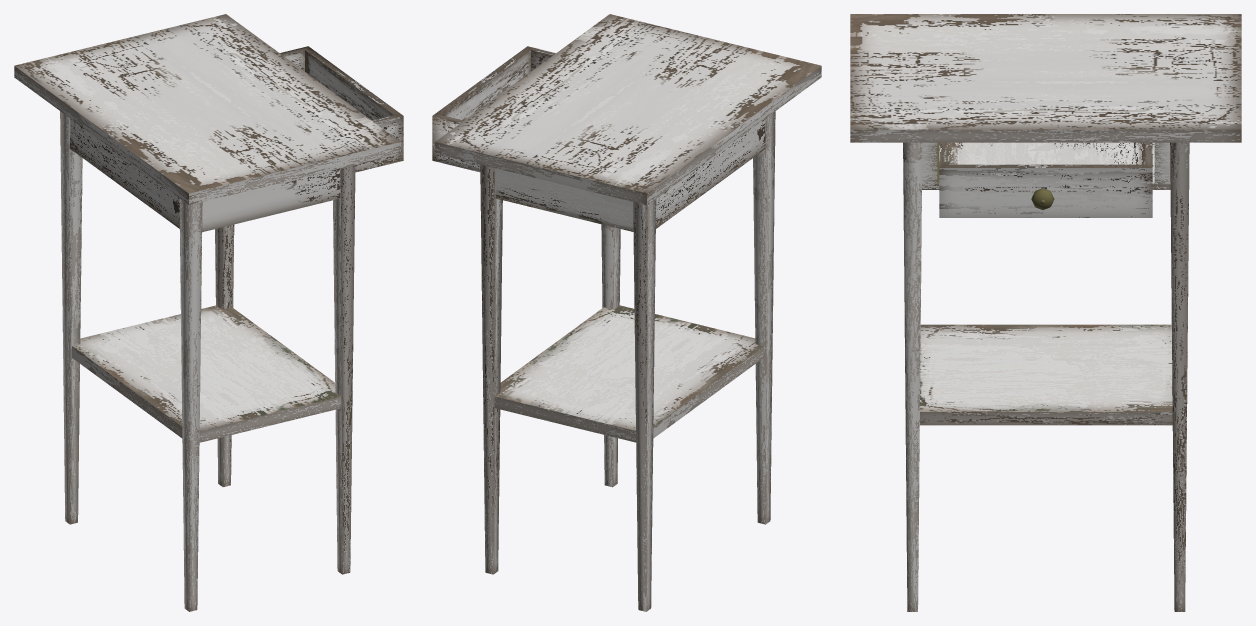
Rendered from an_old_open_empty_lowpoly_drawer.fbx.
3 renders of one model, left to right at view 1: azimuth 30°, elevation 25°; view 2: azimuth 150°, elevation 25°; view 3: azimuth 270°, elevation 25°, orthographic. The views are drawn at different scales.
Parts seen in each view (by area): view 1: Object_2; view 2: Object_2; view 3: Object_2.
Boxes of the visible parts, x1,y1,x2,y2 form: Object_2: (14, 14, 403, 611); Object_2: (432, 14, 821, 611); Object_2: (850, 14, 1241, 611).
Bounding box in the file's own units: 66.94 × 106 × 75.82.
1 material, 1 textured.
